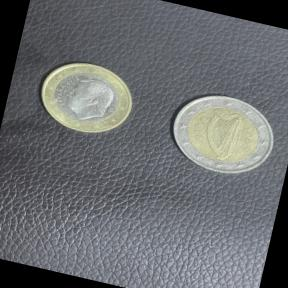coin: (159, 82, 286, 188), (28, 49, 144, 146)
